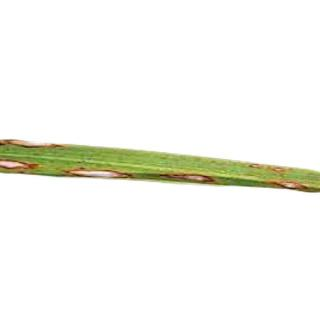Blast: (156, 166, 230, 191), (64, 162, 133, 187), (2, 122, 60, 150), (236, 154, 294, 179), (265, 170, 305, 193), (0, 156, 36, 174)
